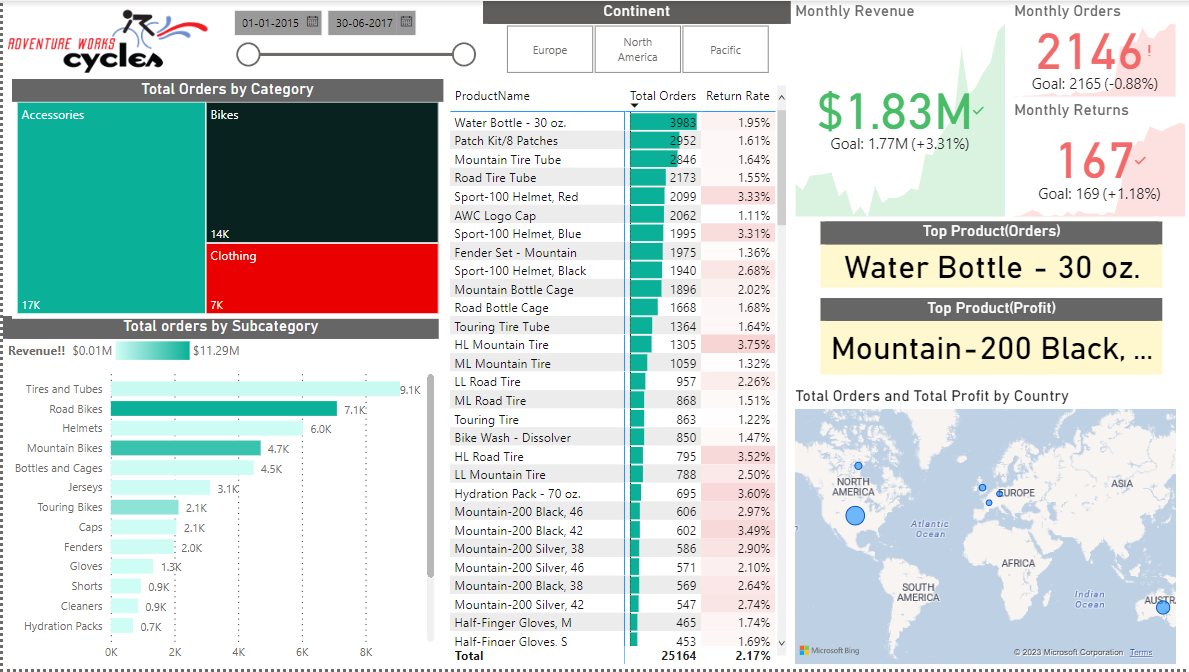

What the dashboard file says about the page in this screenshot:
{"tool":"powerbi","page":{"name":"Summary","canvas":[1280,720],"ordinal":2},"visuals":[{"type":"image","box":[0,0,228.3,86.7],"z":0},{"type":"clusteredBarChart","title":"Total orders by Subcategory","fields":{"Category":["AW_Product_Subcategory_Lookup.SubcategoryName"],"Y":["AW_Sales.Total Orders"]},"box":[0,339.4,470,380.6],"z":1000},{"type":"treemap","title":"Total Orders by Category","fields":{"Group":["AW_Product_Category_Lookup.CategoryName"],"Values":["AW_Sales.Total Orders"]},"box":[10,83.3,465,258.3],"z":2000},{"type":"pivotTable","fields":{"Rows":["AW_Product_Category_Lookup.CategoryName","AW_Product_Subcategory_Lookup.SubcategoryName","AW_product_lookup.ProductName"],"Values":["AW_Sales.Total Orders","AW_Sales.Return Rate"]},"box":[478,86,372,634],"z":3000},{"type":"slicer","fields":{"Values":["AW_calender_lookup.Date"]},"box":[236,0,282,84],"z":4000},{"type":"kpi","title":"Monthly Revenue","fields":{"Indicator":["AW_Sales.Revenue!!"],"TrendLine":["AW_calender_lookup.Start of Month"],"Goal":["AW_Sales.Per month revenue"]},"box":[849.4,0,236.2,237.8],"z":5000},{"type":"kpi","title":"Monthly Orders","fields":{"TrendLine":["AW_calender_lookup.Start of Month"],"Indicator":["AW_Sales.Total Orders"],"Goal":["AW_Sales.Prev month Orders"]},"box":[1085.7,0,184.4,108.4],"z":6000},{"type":"kpi","title":"Monthly Returns","fields":{"TrendLine":["AW_calender_lookup.Start of Month"],"Indicator":["AW_returns.Total returns"],"Goal":["AW_returns.Previous month returns"]},"box":[1085.7,106.8,194.2,131.1],"z":7000},{"type":"card","title":"Top Product(Orders)","fields":{"Values":["Min(AW_product_lookup.ProductName)"]},"box":[881.8,237.8,368.9,71.2],"z":8000},{"type":"card","title":"Top Product(Profit)","fields":{"Values":["Min(AW_product_lookup.ProductName)"]},"box":[881.8,320.4,368.9,82.5],"z":9000},{"type":"map","fields":{"Category":["AdventureWorks_Territories.Country"],"Size":["AW_Sales.Total Orders"]},"box":[849.4,415.8,420.7,304.2],"z":10000},{"type":"slicer","title":"Continent","fields":{"Values":["AdventureWorks_Territories.Continent"]},"box":[518,0,332,84],"z":11000}]}

Visuals, with their boxes in screenshot pixels (x1, y1, x2, y2), scaled from the page's 1280x720 canvas onto the 1189x672 screenshot:
image: <box>0,0,212,81</box>
"Total orders by Subcategory" clusteredBarChart: <box>0,317,437,671</box>
"Total Orders by Category" treemap: <box>9,78,441,319</box>
pivotTable - AW_Product_Category_Lookup.CategoryName x AW_Product_Subcategory_Lookup.SubcategoryName: <box>444,80,790,671</box>
slicer - AW_calender_lookup.Date: <box>219,0,481,78</box>
"Monthly Revenue" kpi: <box>789,0,1008,222</box>
"Monthly Orders" kpi: <box>1009,0,1180,101</box>
"Monthly Returns" kpi: <box>1009,100,1188,222</box>
"Top Product(Orders)" card: <box>819,222,1162,288</box>
"Top Product(Profit)" card: <box>819,299,1162,376</box>
map - AdventureWorks_Territories.Country x AW_Sales.Total Orders: <box>789,388,1180,671</box>
"Continent" slicer: <box>481,0,790,78</box>
